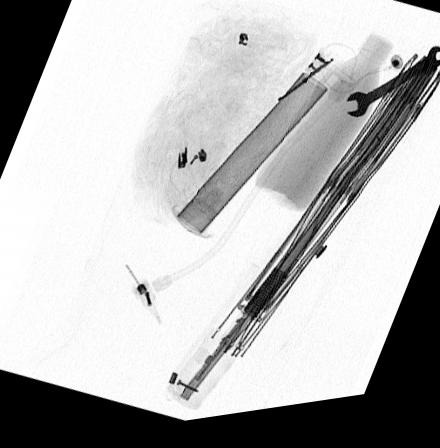Wrench: (341, 57, 440, 131)
